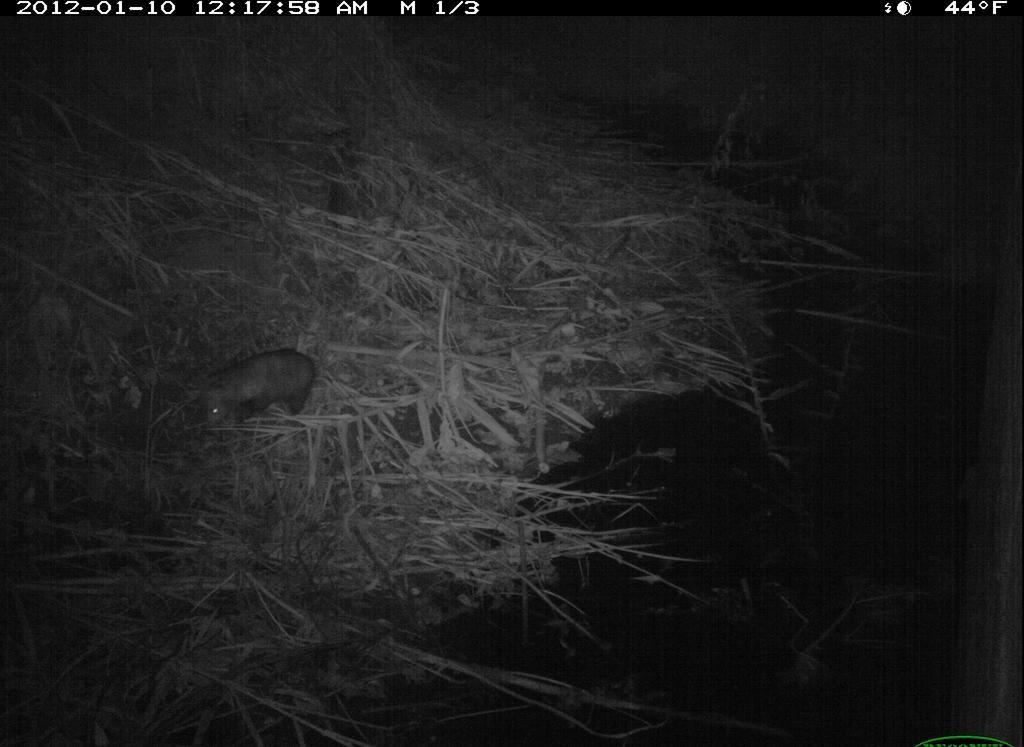opossum: (189, 336, 331, 437)
